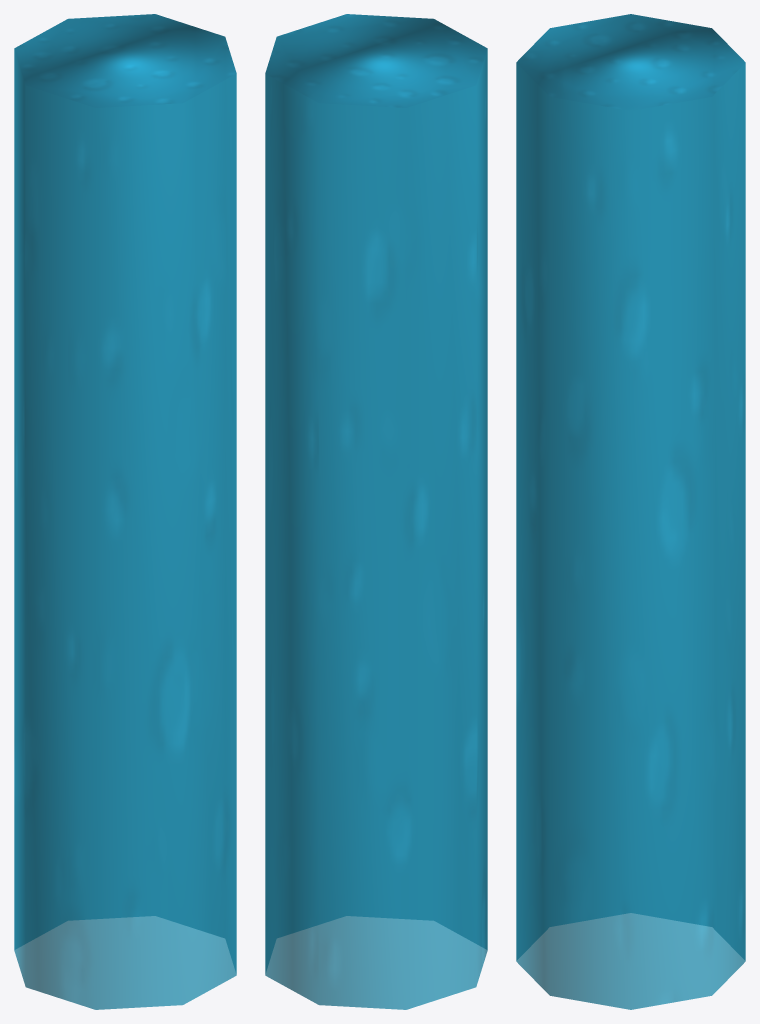
The model's file is LabDesk_Object_GraduatedCylinder(JustFill).fbx.
3 renders of one model, left to right at view 1: azimuth 30°, elevation 25°; view 2: azimuth 150°, elevation 25°; view 3: azimuth 270°, elevation 25°, orthographic.
Visible parts, largest first — view 1: LabDesk_Object_GraduatedCylinderFillShape; view 2: LabDesk_Object_GraduatedCylinderFillShape; view 3: LabDesk_Object_GraduatedCylinderFillShape.
Boxes of the visible parts, box(x1,y1,x2,y2) form: LabDesk_Object_GraduatedCylinderFillShape: box(14, 14, 236, 1009); LabDesk_Object_GraduatedCylinderFillShape: box(265, 14, 487, 1009); LabDesk_Object_GraduatedCylinderFillShape: box(516, 14, 745, 1009).
Bounding box in the file's own units: 1.81 × 7.8 × 1.81.
